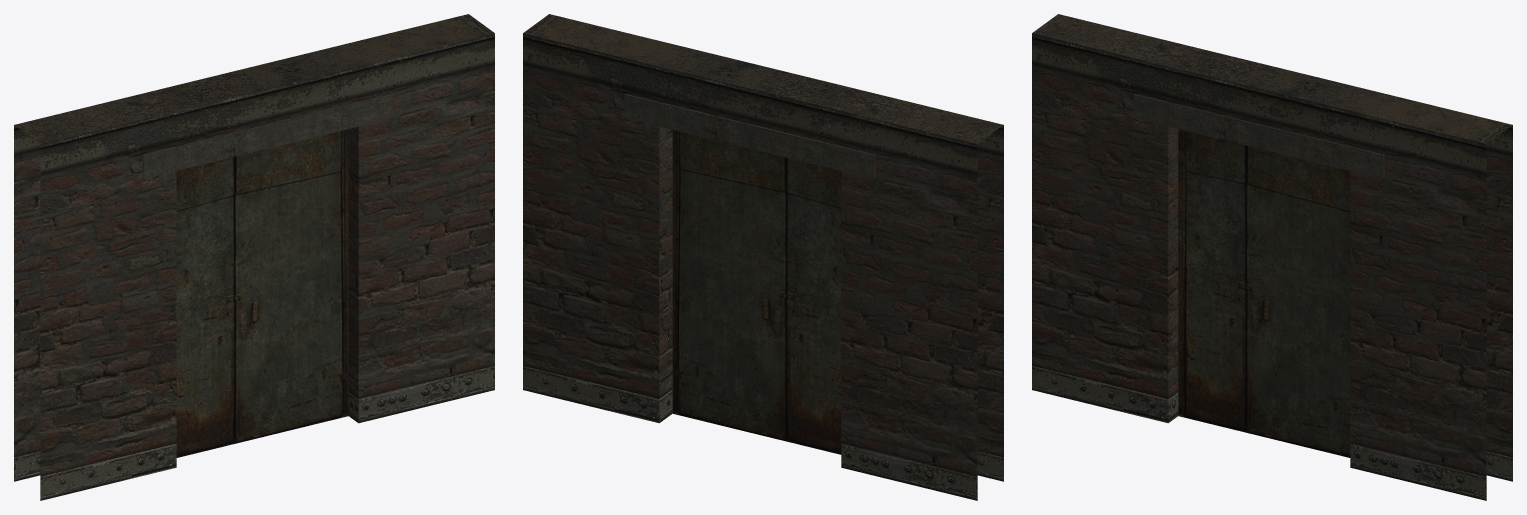
The model's file is doorway_hr_1_wide.obj.
The picture shows the model from 3 angles, left to right: view 1: azimuth 30°, elevation 25°; view 2: azimuth 150°, elevation 25°; view 3: azimuth 330°, elevation 25°; orthographic projection.
Visible parts, largest first — view 1: doorway_hr_1_wide, door_hm_1_piece_2, door_hm_1_piece_1; view 2: doorway_hr_1_wide, door_hm_1_piece_2, door_hm_1_piece_1; view 3: doorway_hr_1_wide, door_hm_1_piece_2, door_hm_1_piece_1.
Boxes of the visible parts, left/top/right/bottom form: doorway_hr_1_wide: left=14, top=14, right=494, bottom=500; door_hm_1_piece_2: left=235, top=129, right=348, bottom=443; door_hm_1_piece_1: left=176, top=157, right=234, bottom=457; doorway_hr_1_wide: left=523, top=14, right=1003, bottom=500; door_hm_1_piece_2: left=672, top=130, right=786, bottom=441; door_hm_1_piece_1: left=786, top=157, right=841, bottom=454; doorway_hr_1_wide: left=1032, top=14, right=1512, bottom=500; door_hm_1_piece_2: left=1246, top=145, right=1350, bottom=457; door_hm_1_piece_1: left=1178, top=129, right=1246, bottom=432.
Bounding box in the file's own units: 4 × 3 × 0.42.
